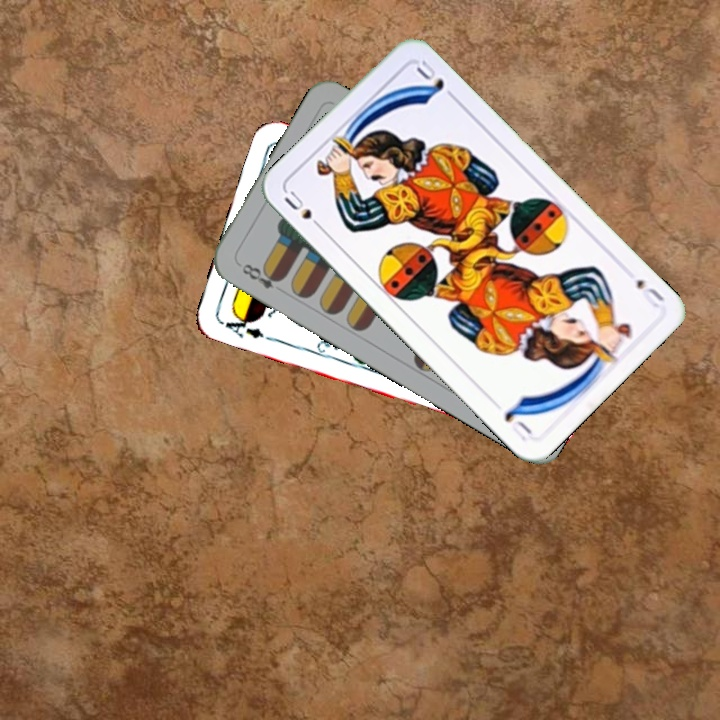E8: (237, 259, 286, 292)
EA: (216, 308, 267, 341)
SU: (280, 186, 327, 234), (632, 275, 667, 308)
